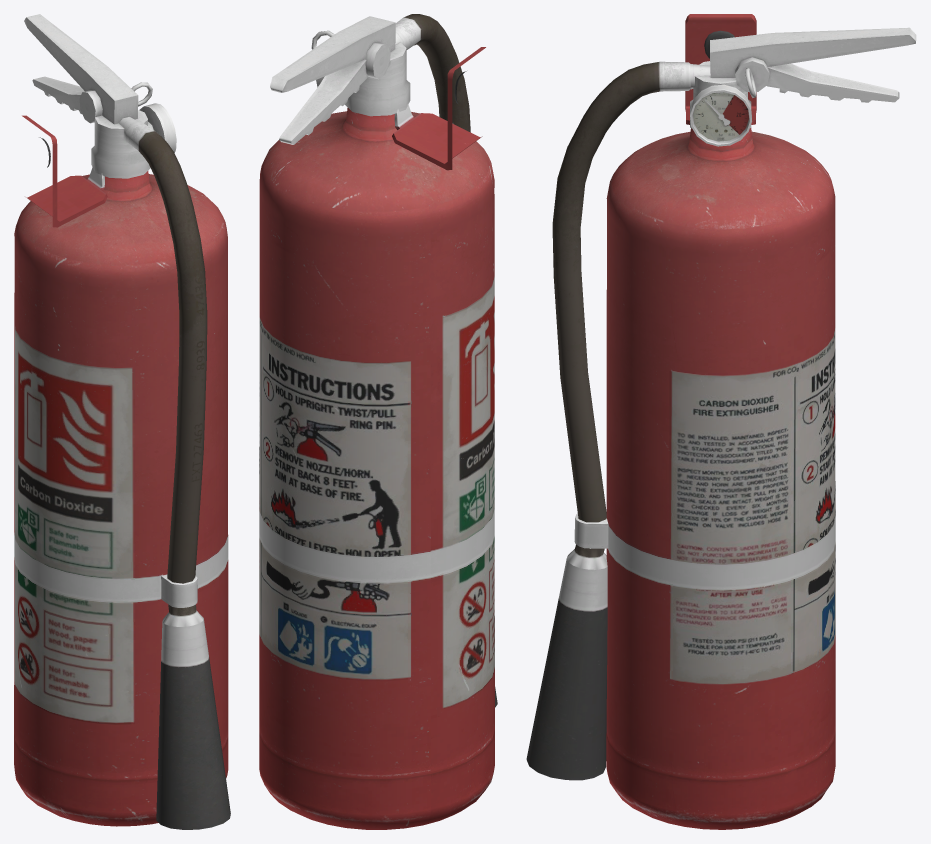
File: SM_Fire_Extinguisher_01a.glb
3 views of the same model, side by side, from view 1: azimuth 30°, elevation 25°; view 2: azimuth 150°, elevation 25°; view 3: azimuth 270°, elevation 25° (orthographic). The views are drawn at different scales.
Visible parts, largest first — view 1: SM_Fire_Extinguisher_01a; view 2: SM_Fire_Extinguisher_01a; view 3: SM_Fire_Extinguisher_01a.
Boxes of the visible parts, x1=… form: SM_Fire_Extinguisher_01a: x1=14, y1=14, x2=230, y2=829; SM_Fire_Extinguisher_01a: x1=259, y1=14, x2=497, y2=829; SM_Fire_Extinguisher_01a: x1=526, y1=14, x2=916, y2=829.
Size of the model in its own units: 0.1609 by 0.5873 by 0.2741.
Materials: 1 (1 with a texture image).
